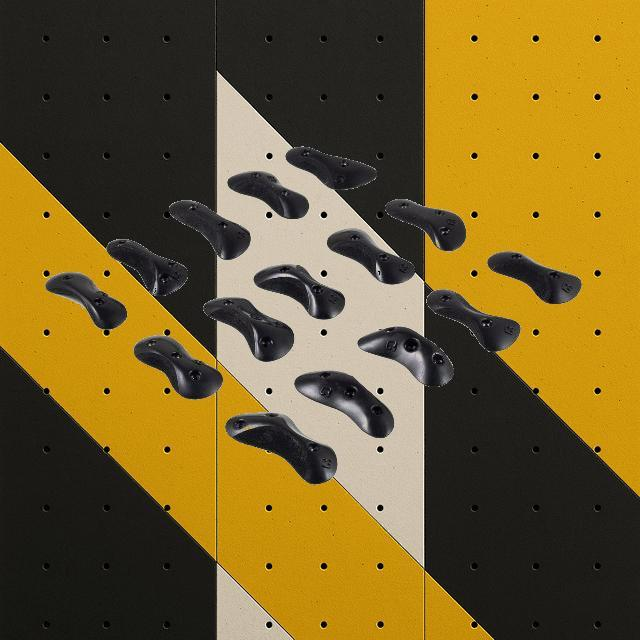Sloper: (226, 411, 338, 485), (294, 371, 394, 439), (357, 326, 455, 390), (426, 288, 520, 352), (203, 297, 294, 361), (134, 334, 222, 400), (169, 198, 251, 262), (326, 228, 416, 286), (254, 264, 346, 320), (487, 251, 581, 305), (106, 238, 188, 296), (45, 271, 127, 329), (384, 197, 466, 251), (284, 146, 378, 190), (228, 170, 310, 220)
